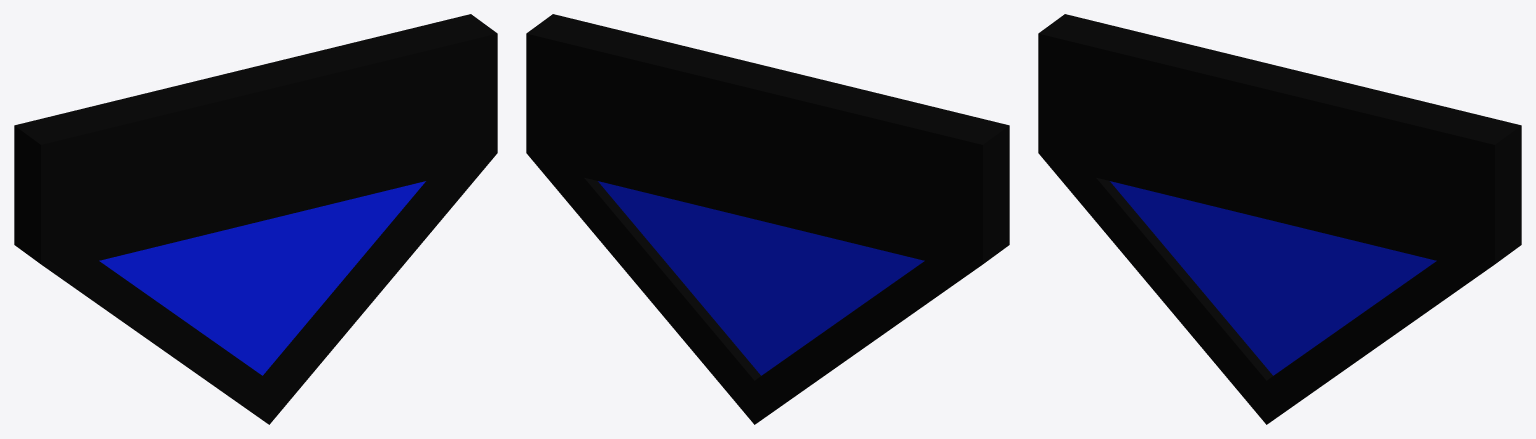
File: SM_ObjectiveMarker.fbx
3 views of the same model, side by side, from view 1: azimuth 30°, elevation 25°; view 2: azimuth 150°, elevation 25°; view 3: azimuth 330°, elevation 25° (orthographic).
Parts seen in each view (by area): view 1: SM_ObjectiveMarker; view 2: SM_ObjectiveMarker; view 3: SM_ObjectiveMarker.
Boxes of the visible parts, x1,y1,x2,y2 form: SM_ObjectiveMarker: (14, 14, 497, 424); SM_ObjectiveMarker: (526, 14, 1009, 424); SM_ObjectiveMarker: (1038, 14, 1521, 424).
Size of what is drawn, in the model's own units: 78.89 by 8 by 55.42.
